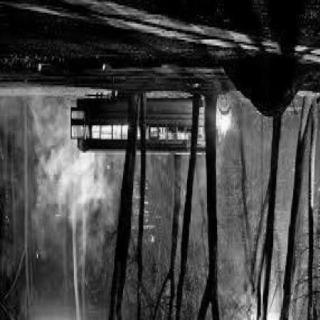Smoke: (36, 99, 92, 219)
